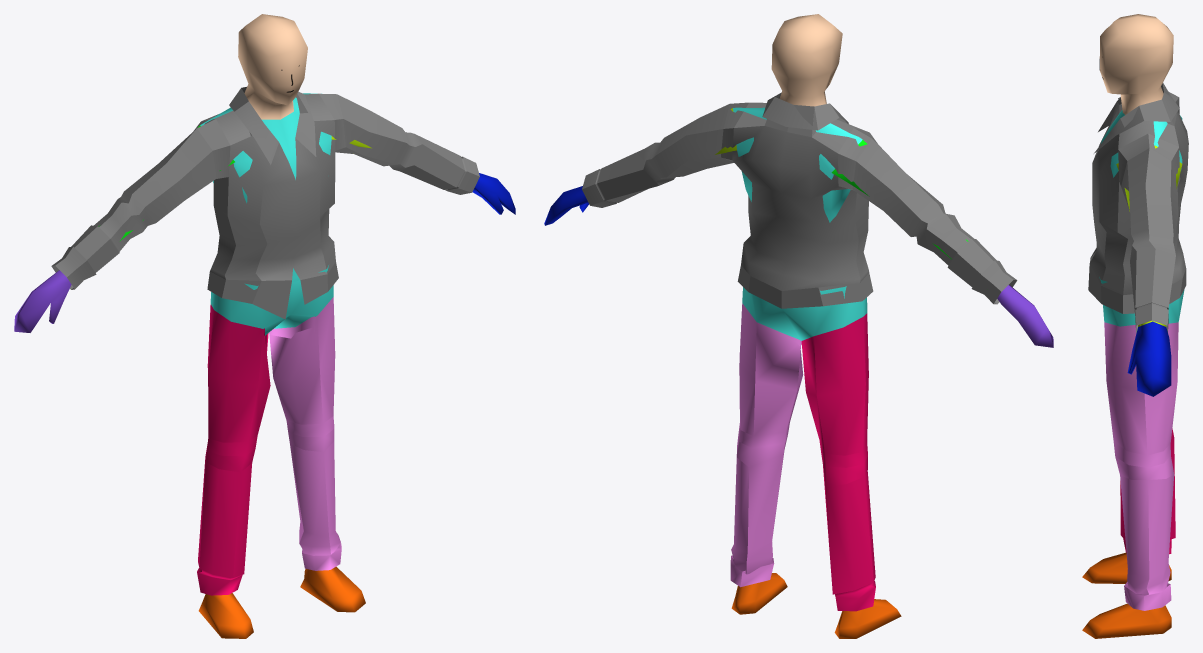
The model's file is Mitchell.obj.
3 renders of one model, left to right at view 1: azimuth 30°, elevation 25°; view 2: azimuth 150°, elevation 25°; view 3: azimuth 270°, elevation 25°, orthographic.
Parts seen in each view (by area): view 1: group pasted__pasted__Hand1, pasted__HumanoidBase_NotOverlapping group, HumanoidBase_NotOverlapping; view 2: group pasted__pasted__Hand1, pasted__HumanoidBase_NotOverlapping group, HumanoidBase_NotOverlapping; view 3: group pasted__pasted__Hand1, pasted__HumanoidBase_NotOverlapping group, HumanoidBase_NotOverlapping.
Part boxes in pixels (x1=…): group pasted__pasted__Hand1: x1=51, y1=87, x2=479, y2=319; pasted__HumanoidBase_NotOverlapping group: x1=197, y1=265, x2=341, y2=595; HumanoidBase_NotOverlapping: x1=14, y1=14, x2=515, y2=638; group pasted__pasted__Hand1: x1=582, y1=92, x2=1017, y2=308; pasted__HumanoidBase_NotOverlapping group: x1=730, y1=286, x2=875, y2=611; HumanoidBase_NotOverlapping: x1=544, y1=14, x2=1053, y2=638; group pasted__pasted__Hand1: x1=1088, y1=83, x2=1188, y2=332; pasted__HumanoidBase_NotOverlapping group: x1=1099, y1=277, x2=1184, y2=610; HumanoidBase_NotOverlapping: x1=1082, y1=14, x2=1182, y2=638.
Bounding box in the file's own units: 161 × 180 × 29.7.
Materials: 3 (2 with a texture image).
